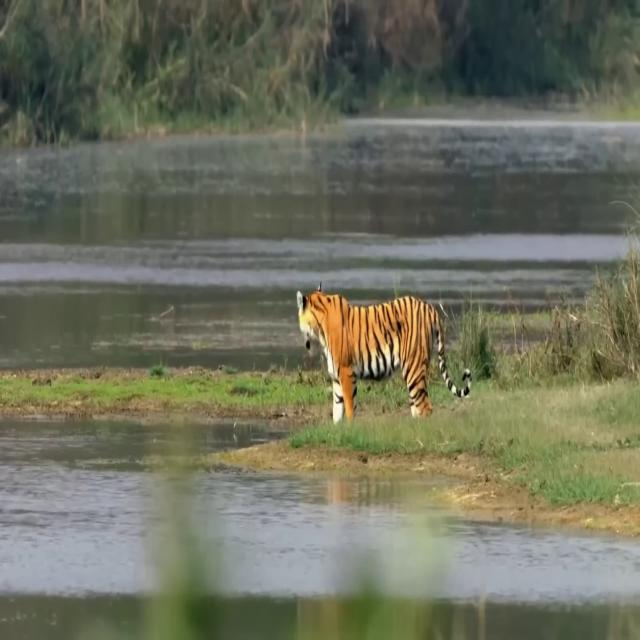tiger: (296, 280, 472, 424)
